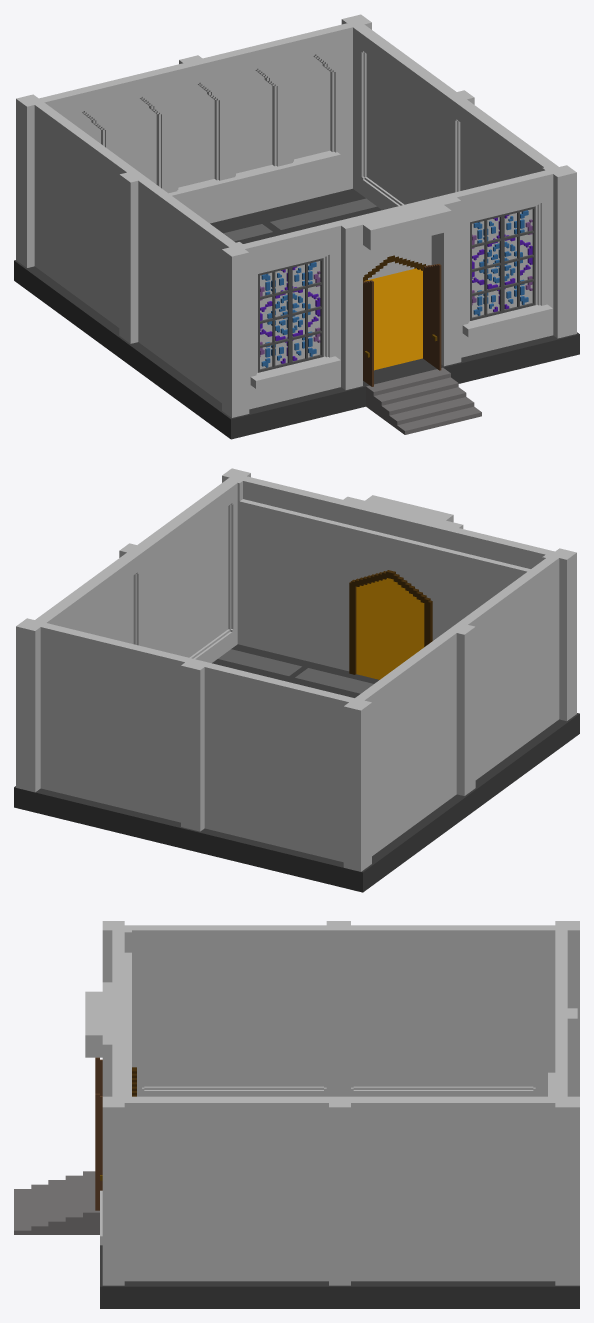
The model's file is InIgreja.obj.
3 renders of one model, top to bottom at view 1: azimuth 30°, elevation 25°; view 2: azimuth 150°, elevation 25°; view 3: azimuth 270°, elevation 25°, orthographic. The views are drawn at different scales.
Size of the model in its own units: 18.1 by 9 by 23.
1 material, 1 textured.
